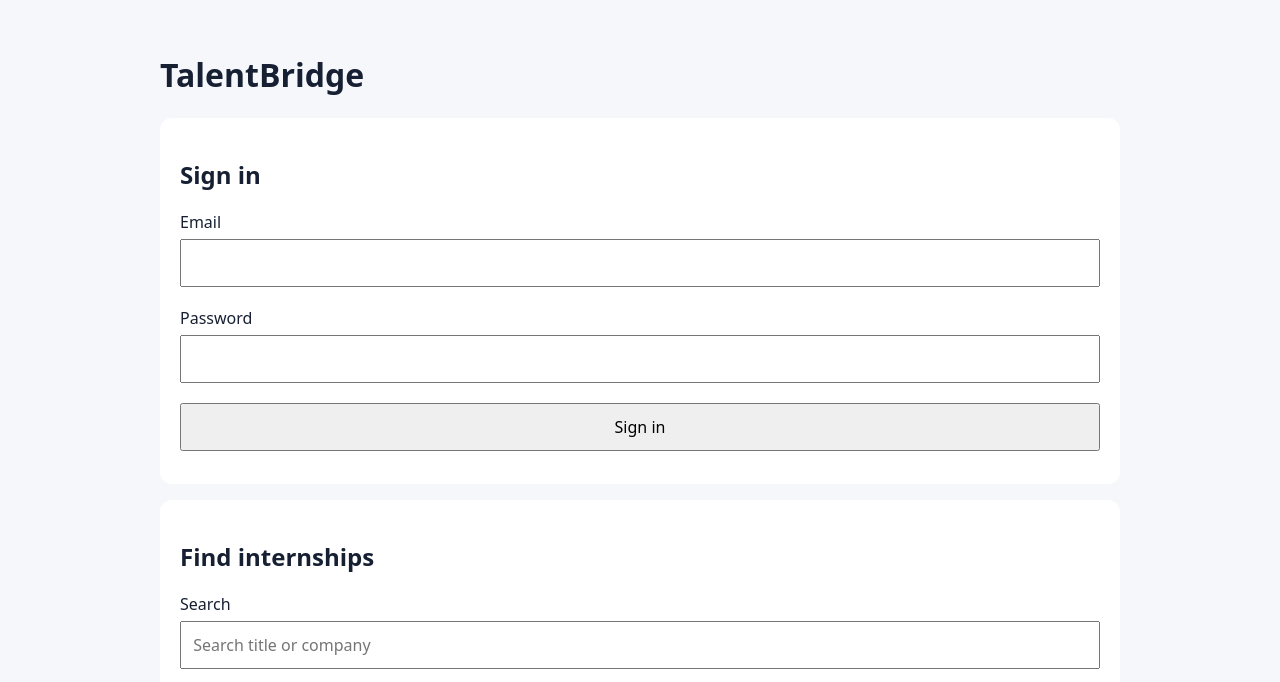
TalentBridge user behavior › shows password validation when email is valid
The image size is (1280, 682).
Type "user@example.com" into the field labelled "Email" at (640, 263), box [180,239,1100,288]
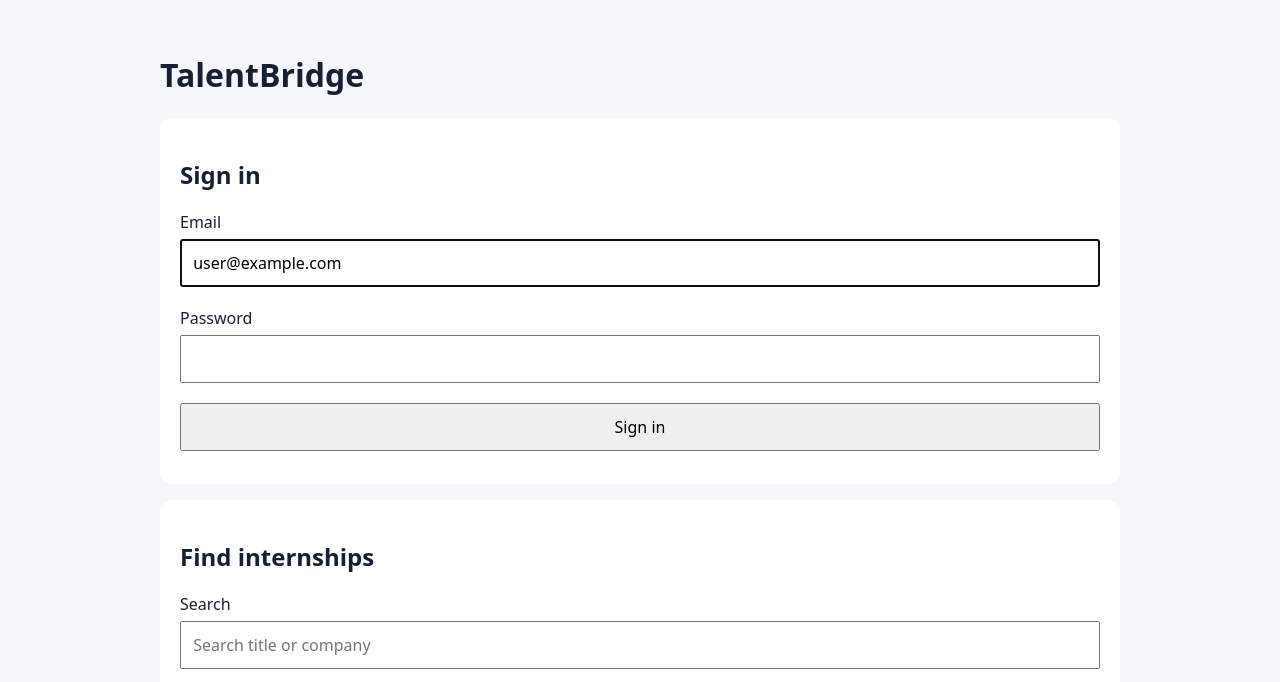
Type "short" into the password field labelled "Password" at (640, 359), box [180,335,1100,383]
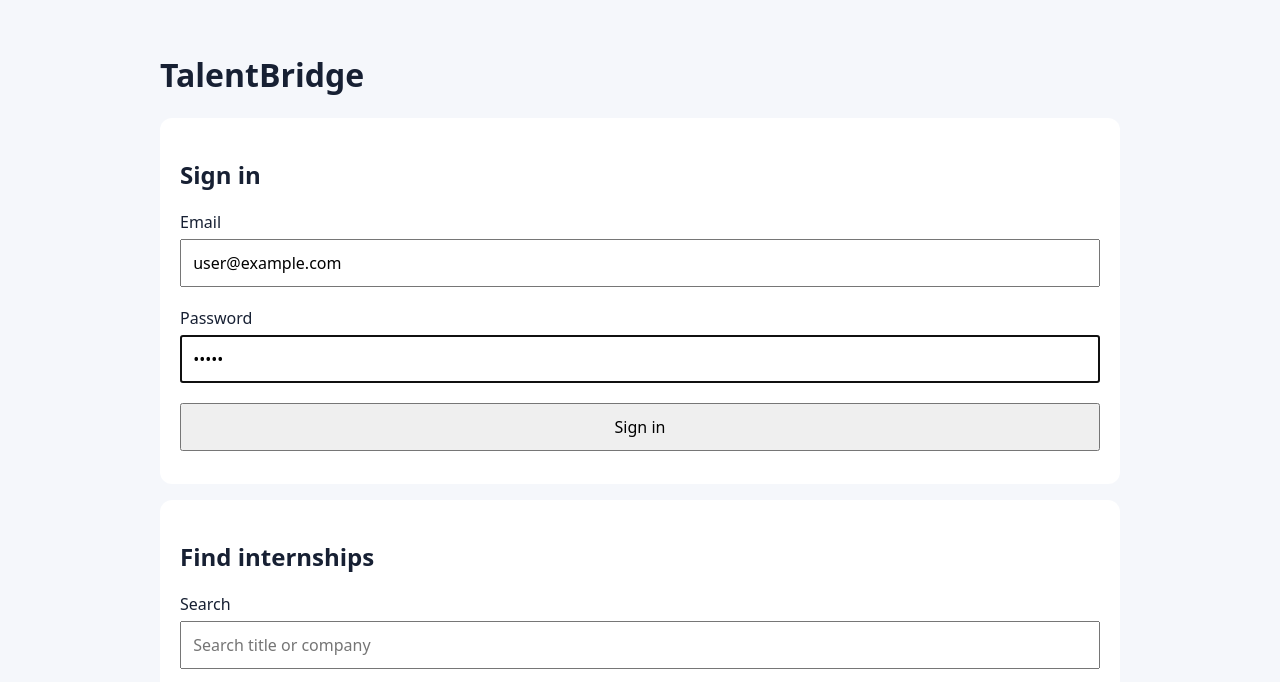
Click the button "Sign in" at (640, 427), box [180,403,1100,451]
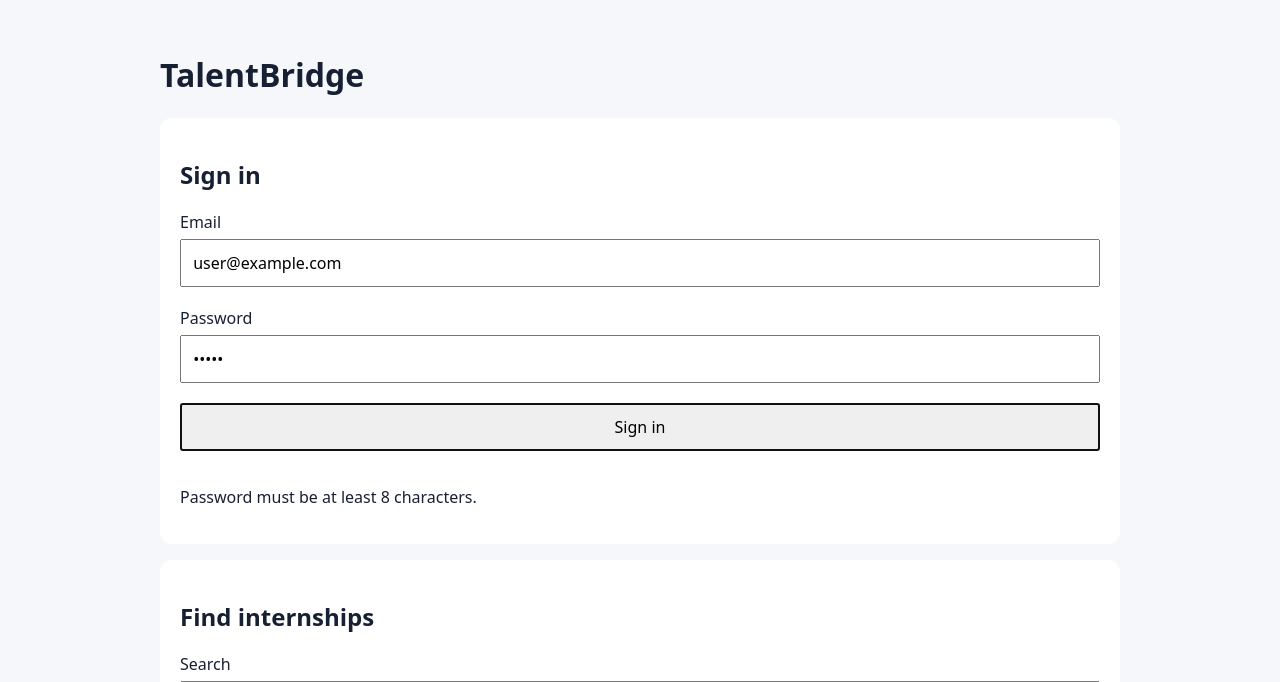
Result: the message reads "Password must be at least 8 characters." at [180,486,477,508]
